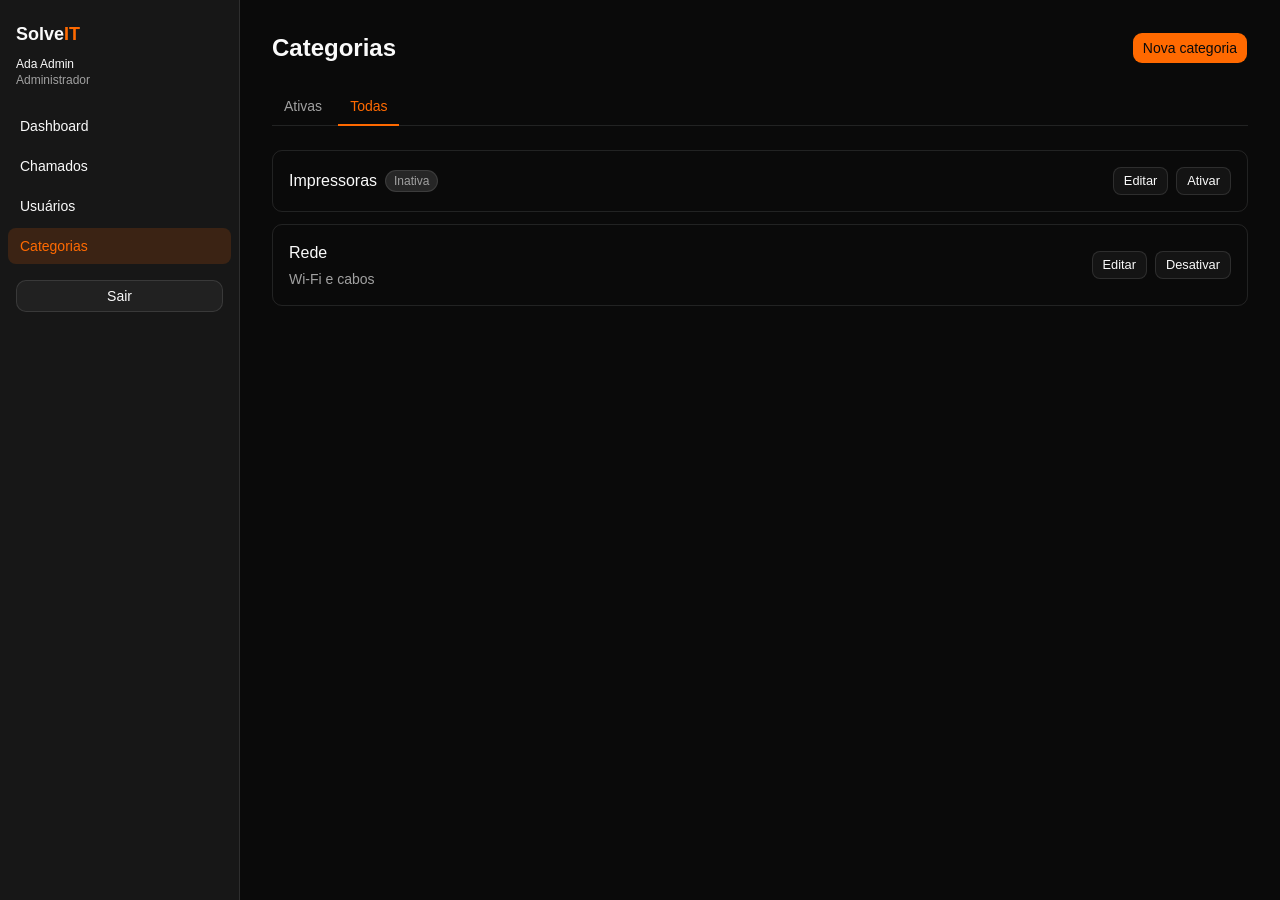
Test: administração de categorias › reativa uma categoria inativa enviando a versão lida
Click the button "Ativar": (1204,181) [1176,167,1231,195]
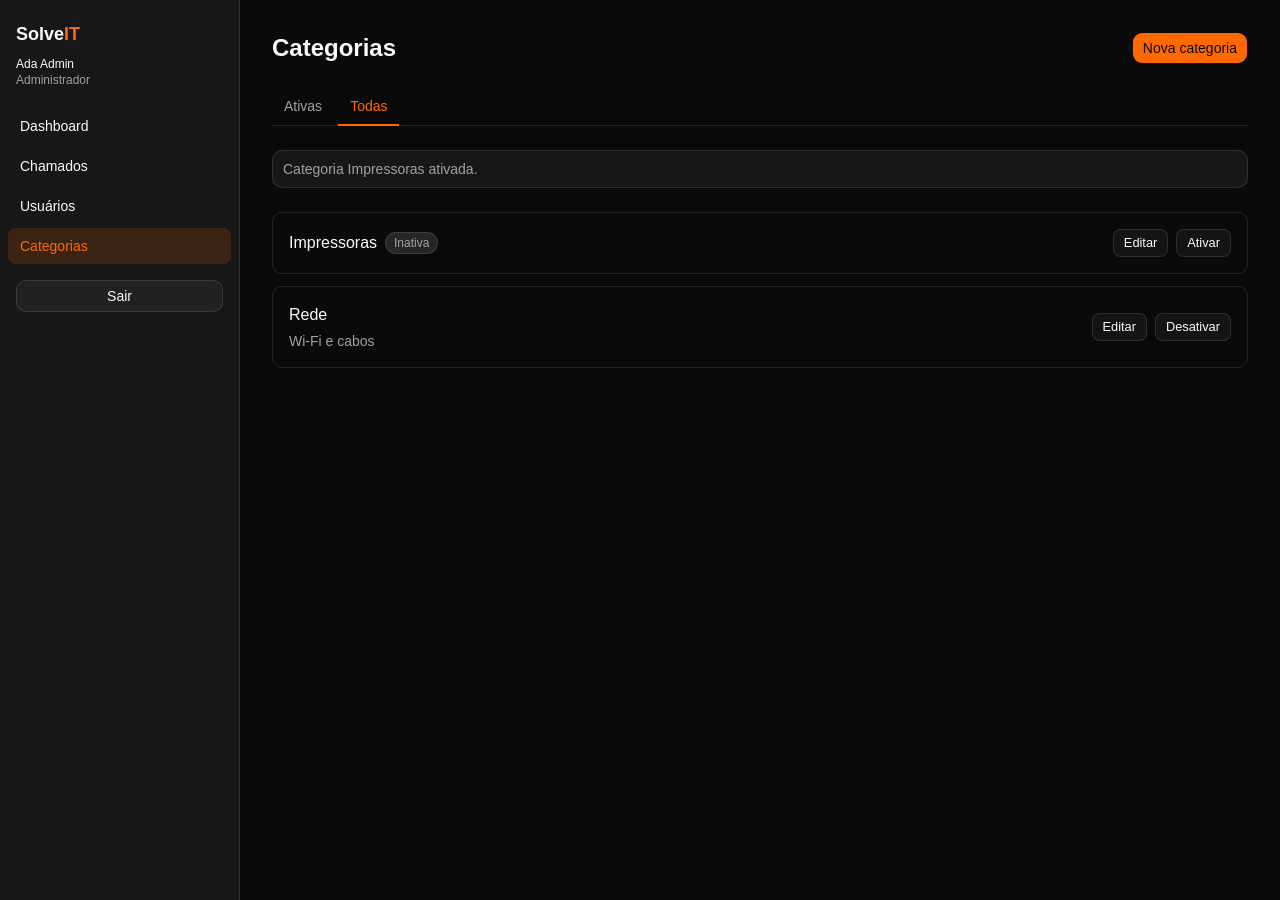
Result: the text "Categoria Impressoras ativada." is shown at [283,161,478,177]
